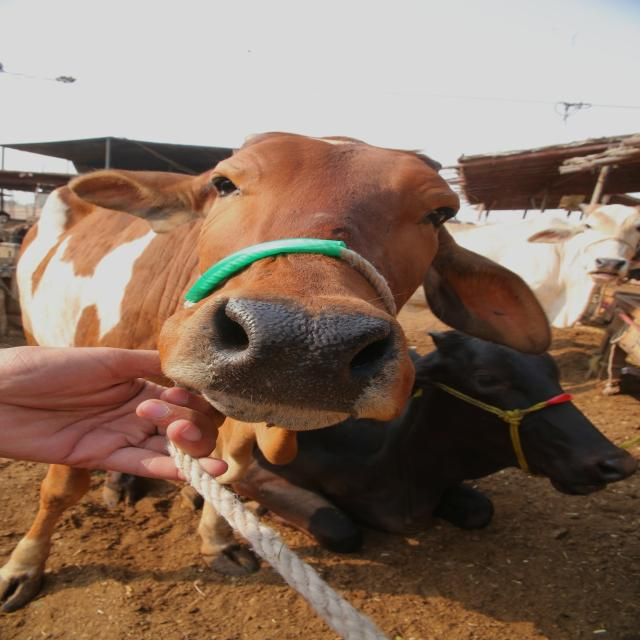muzzles: (200, 288, 403, 417)
